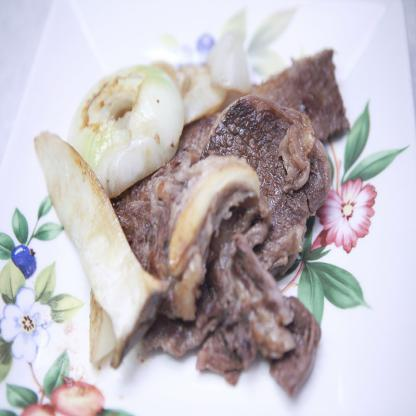Carne: (219, 98, 338, 229), (190, 254, 307, 370), (265, 46, 343, 148)
